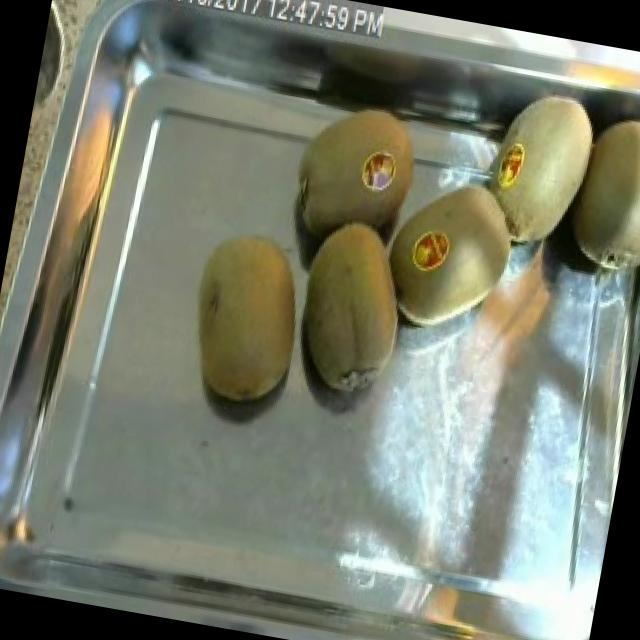Fruit: (166, 213, 324, 423), (274, 202, 431, 412), (383, 160, 537, 353), (278, 89, 436, 270), (465, 72, 604, 264), (557, 93, 640, 294)
